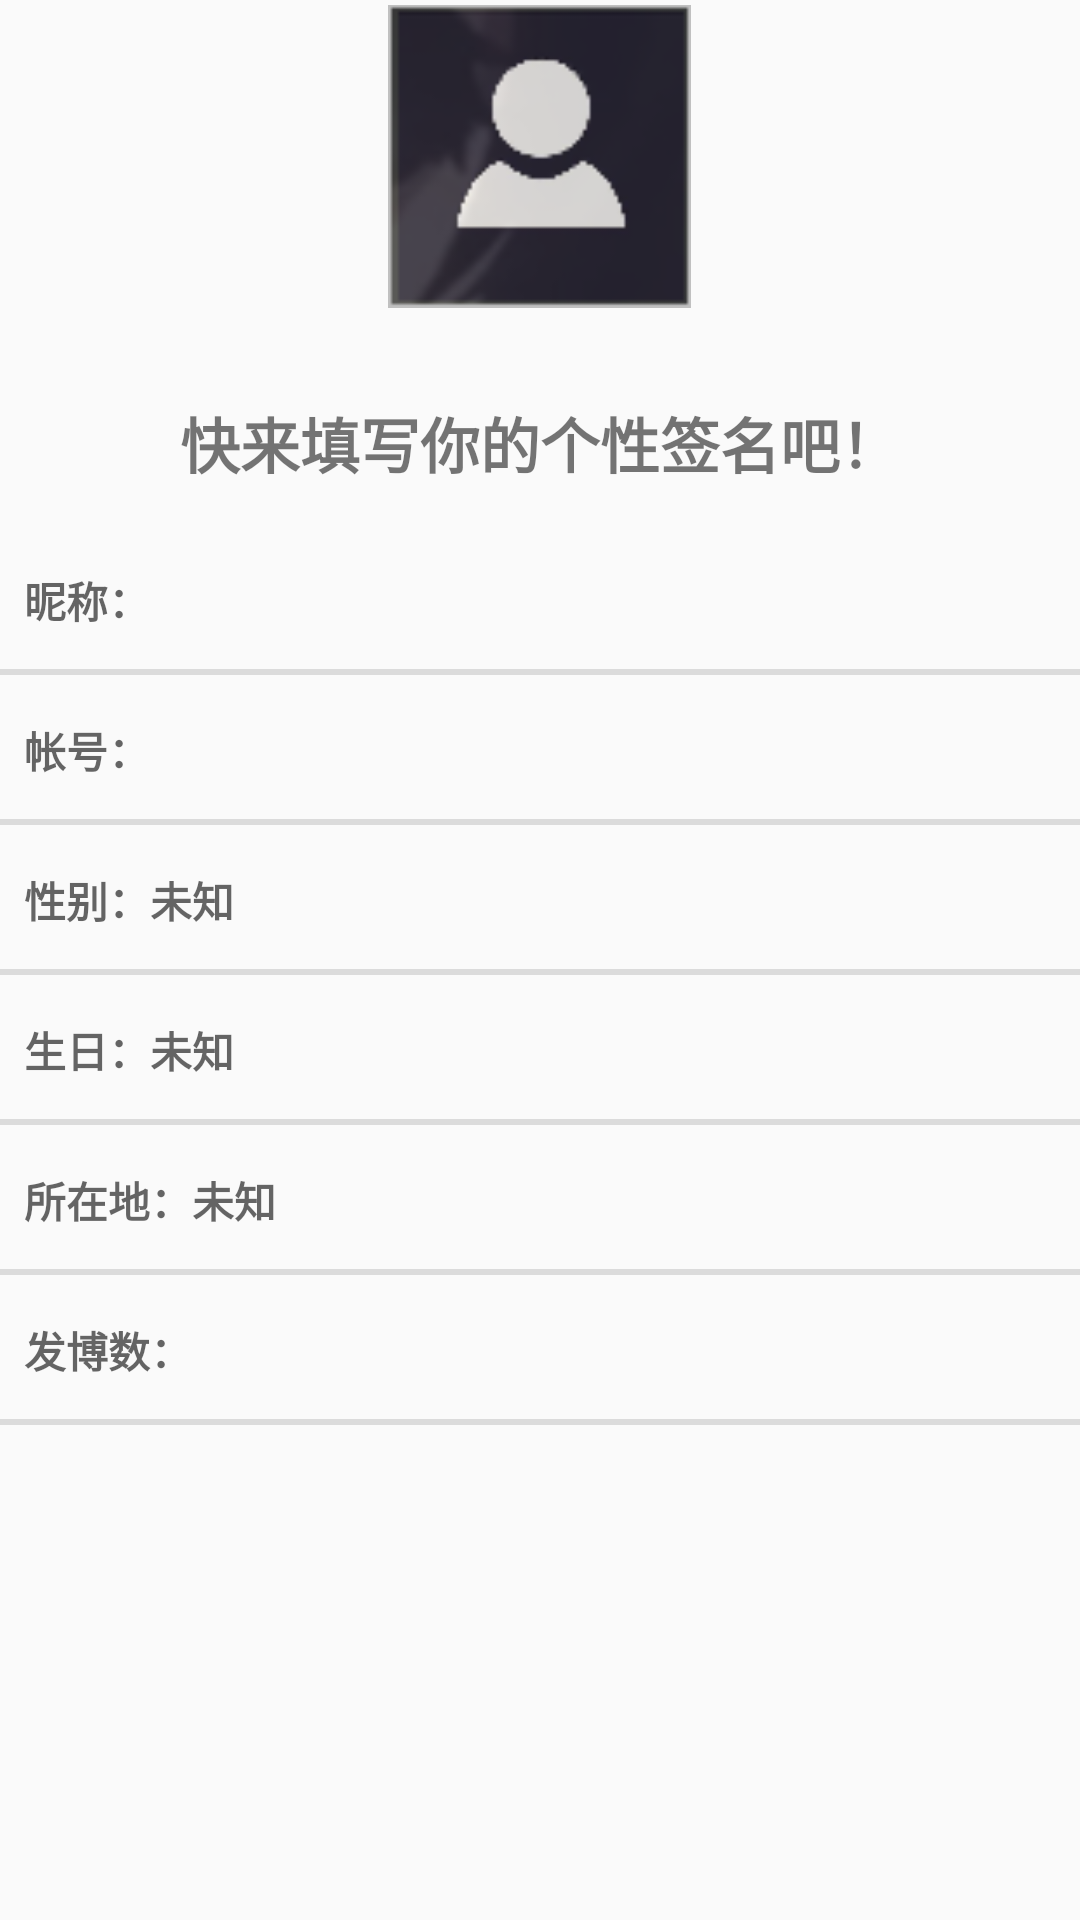

Where icons sit on this 1080×1920 app screen, as region(x1, y1, x2, y2):
profile photo: region(388, 5, 691, 308)
